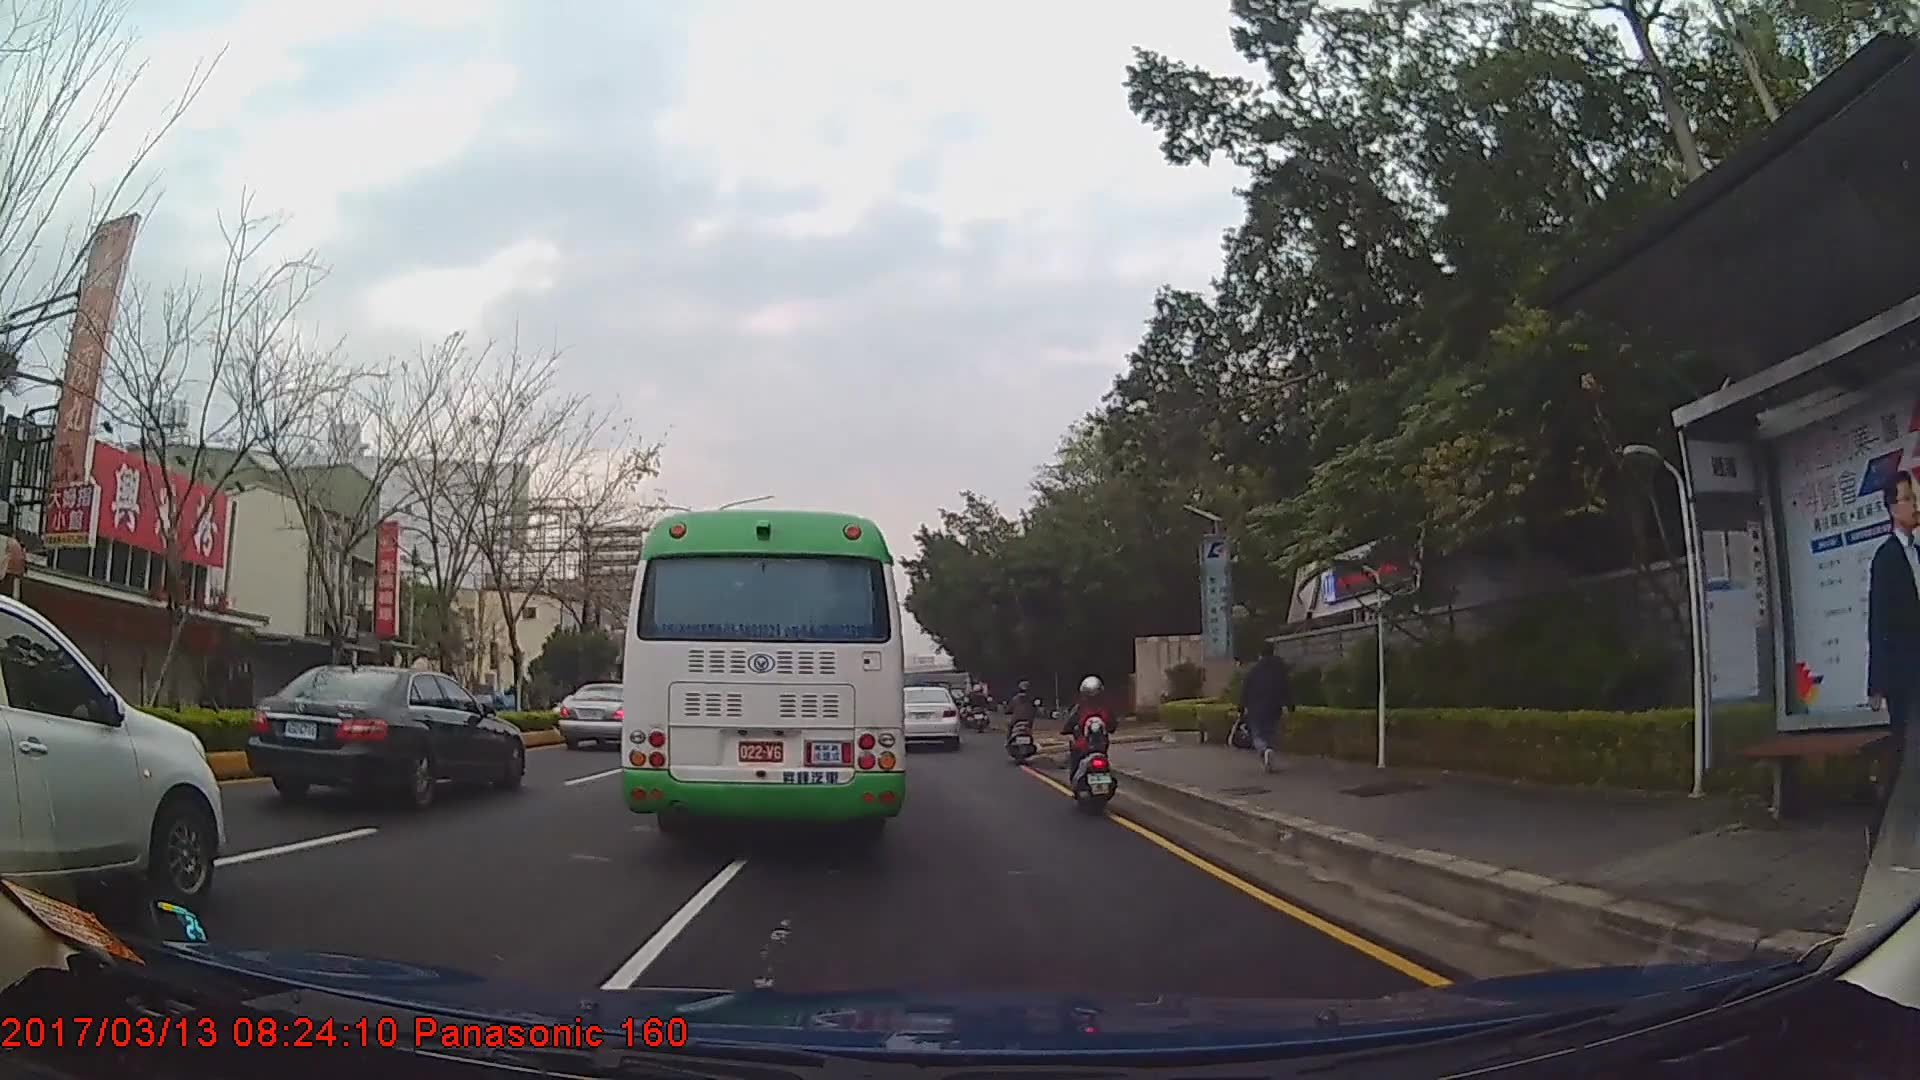pedestrian: (1868, 470, 1920, 866), (1233, 636, 1301, 775)
rider: (1067, 674, 1121, 807), (1007, 672, 1044, 759), (969, 682, 989, 719)
vehicle: (619, 507, 905, 852), (0, 590, 227, 911), (246, 659, 525, 807), (557, 677, 649, 749), (898, 684, 960, 749)
